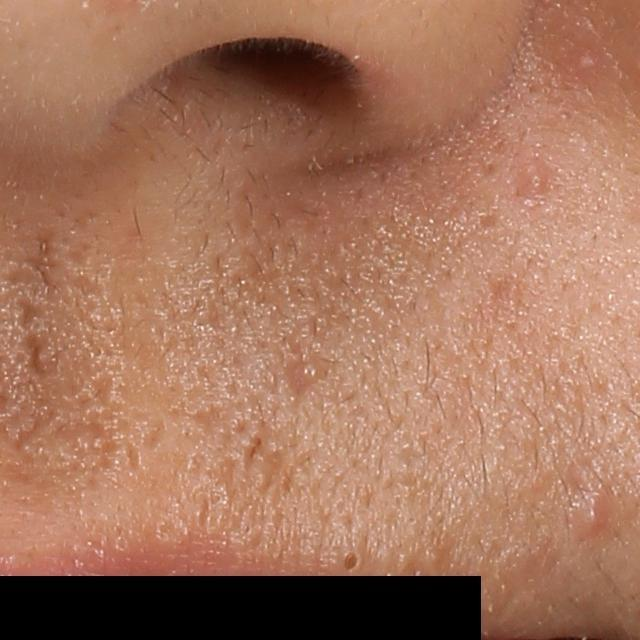atrophic_scar: (11, 400, 60, 449), (25, 224, 58, 289), (286, 345, 326, 398), (23, 332, 56, 388), (87, 371, 119, 413), (16, 295, 38, 330), (123, 440, 146, 473)
comedo: (333, 543, 367, 576)
papule: (567, 486, 613, 535), (575, 49, 599, 72)
